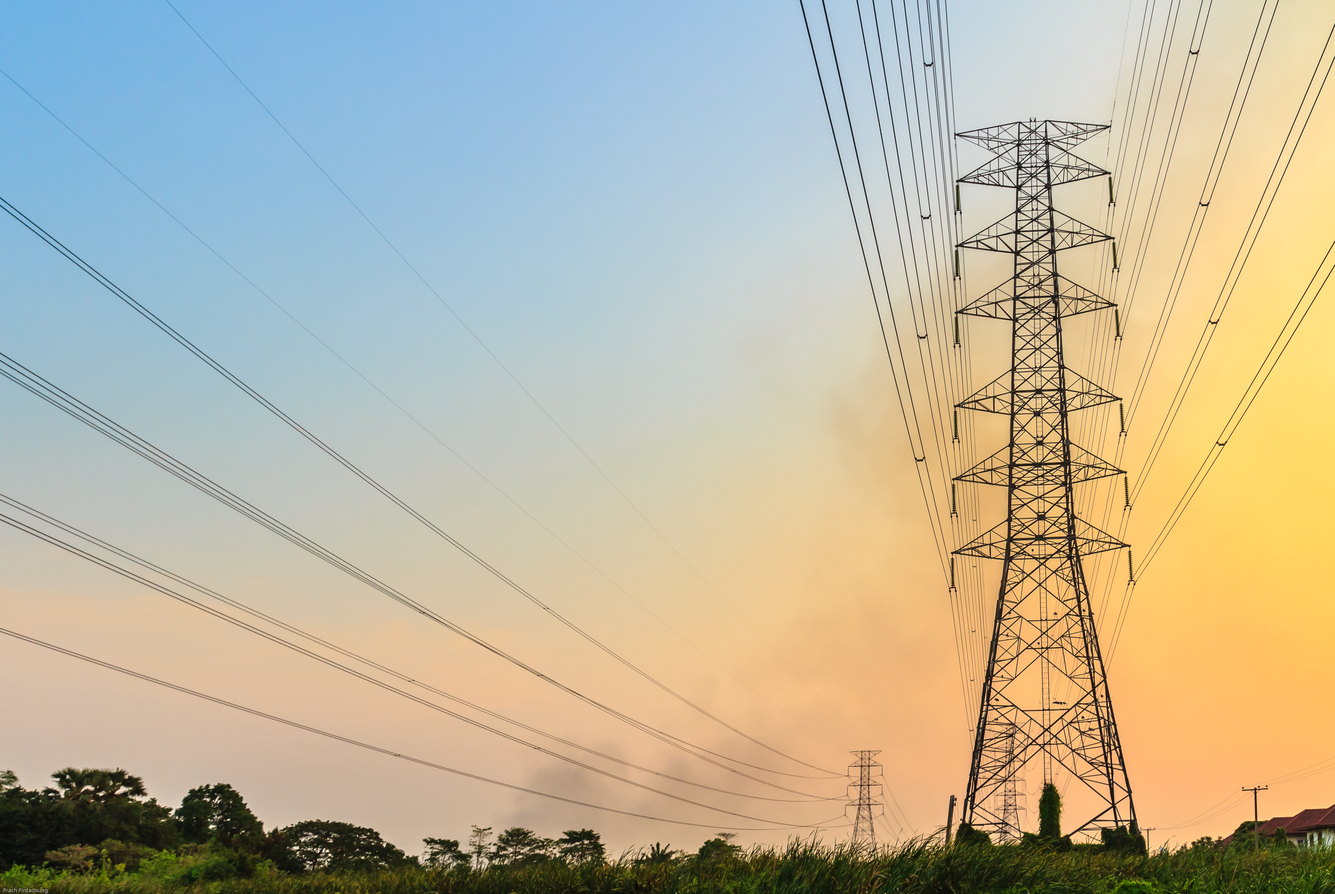insulator: (1108, 306, 1125, 344), (1118, 470, 1133, 513), (946, 406, 962, 445), (947, 180, 963, 216), (948, 310, 963, 348), (950, 244, 965, 281), (945, 553, 959, 592), (946, 481, 960, 517), (1103, 174, 1118, 206), (1115, 400, 1128, 435), (1109, 241, 1121, 276), (1125, 549, 1135, 587)
